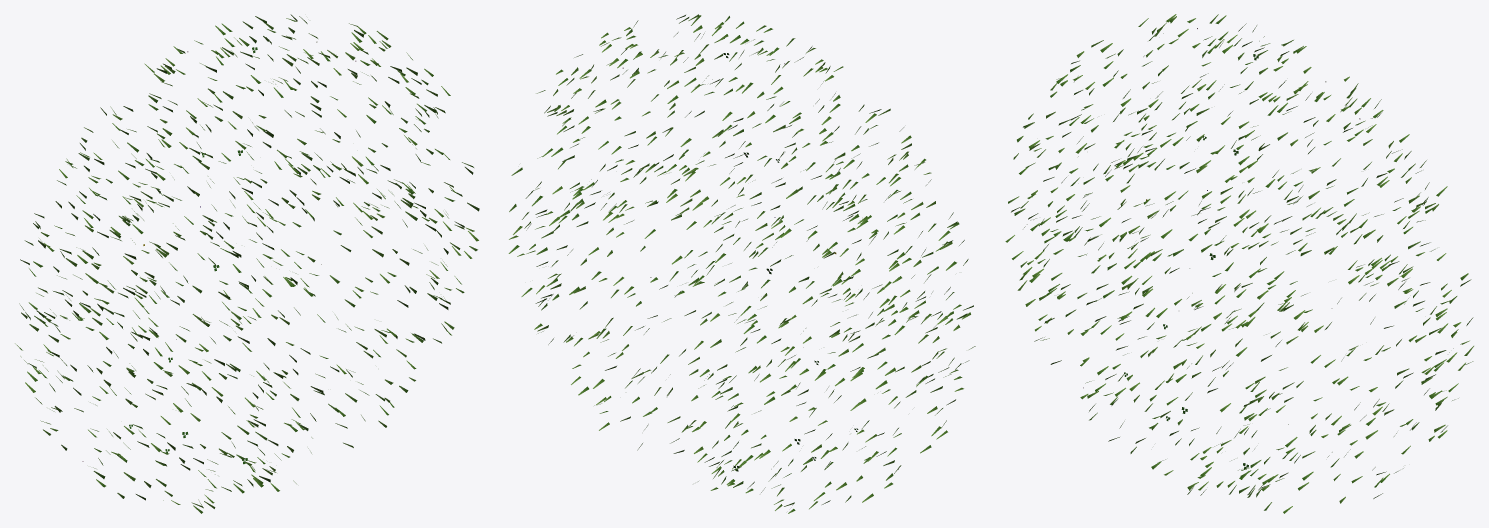
File: Grass_Tile_GreatLawn.glb
3 views of the same model, side by side, from view 1: azimuth 30°, elevation 25°; view 2: azimuth 150°, elevation 25°; view 3: azimuth 330°, elevation 25° (orthographic).
Visible parts, largest first — view 1: Grass_Tile_GreatLawn; view 2: Grass_Tile_GreatLawn; view 3: Grass_Tile_GreatLawn.
Part boxes in pixels (<box>): Grass_Tile_GreatLawn: <box>15,14,479,513</box>; Grass_Tile_GreatLawn: <box>508,14,975,513</box>; Grass_Tile_GreatLawn: <box>1005,14,1473,513</box>.
Bounding box in the file's own units: 1.98 × 1.97 × 0.0921.
